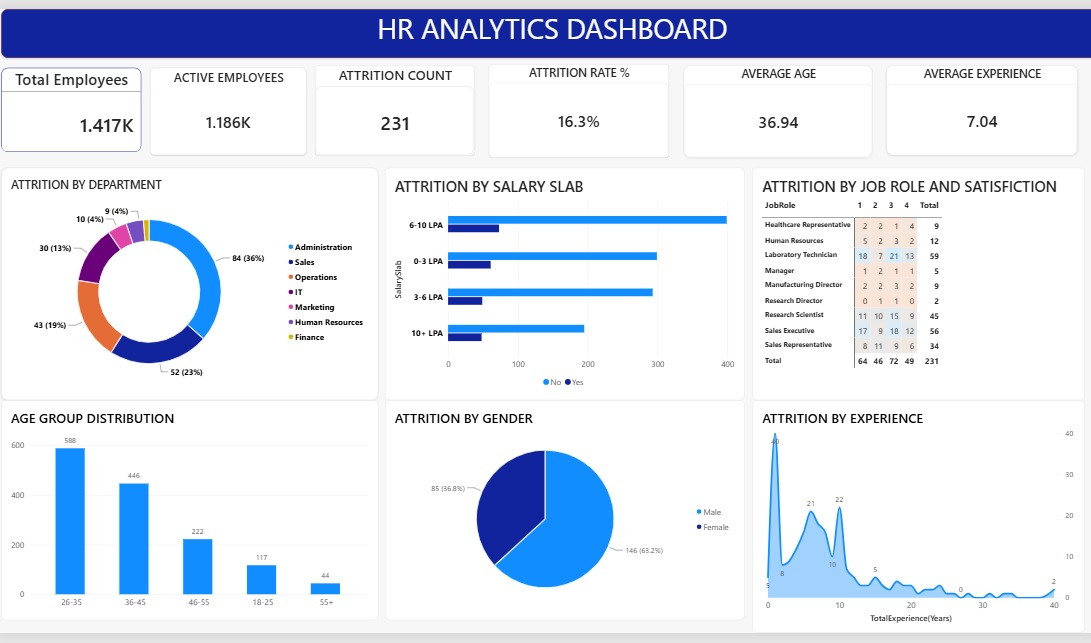

The page's visual inventory and layout, read from the dashboard file:
{"tool":"powerbi","page":{"name":"Page 1","canvas":[1920,1080],"ordinal":0},"visuals":[{"type":"textbox","box":[10.8,0,1908.8,84.4],"z":0},{"type":"cardVisual","title":"Total Employees","fields":{"Data":["CountNonNull(HR_Analytics-4.EmpID)"]},"box":[10.8,102.5,242.7,145.6],"z":1},{"type":"cardVisual","title":"ACTIVE EMPLOYEES","fields":{"Data":["CountNonNull(HR_Analytics-4.EmployeeCount)"]},"box":[267.9,102.5,271.5,151],"z":2},{"type":"cardVisual","title":"ATTRITION COUNT","fields":{"Data":["Sum(HR_Analytics-4.AttritionCount)"]},"box":[553.7,97.1,276.9,156.4],"z":3},{"type":"cardVisual","title":"ATTRITION RATE %","fields":{"Data":["HR_Analytics-4.Attrition Rate %"]},"box":[854.8,95.2,311.6,162.3],"z":4},{"type":"cardVisual","title":"AVERAGE AGE","fields":{"Data":["Avg(HR_Analytics-4.Age)"]},"box":[1192.4,97.4,326.8,160.1],"z":5},{"type":"cardVisual","title":"AVERAGE EXPERIENCE","fields":{"Data":["Avg(HR_Analytics-4.YearsatCompany)"]},"box":[1543,97.4,331.1,155.8],"z":6},{"type":"donutChart","title":"ATTRITION BY DEPARTMENT","fields":{"Category":["HR_Analytics-4.Department"],"Y":["Sum(HR_Analytics-4.AttritionCount)"]},"box":[10.8,275.1,652.6,402.7],"z":7},{"type":"clusteredBarChart","title":"ATTRITION BY SALARY SLAB","fields":{"Category":["HR_Analytics-4.SalarySlab"],"Series":["HR_Analytics-4.Attrition"],"Y":["CountNonNull(HR_Analytics-4.EmpID)"]},"box":[676,275.1,622,402.7],"z":8},{"type":"pivotTable","title":"ATTRITION BY JOB ROLE AND SATISFICTION","fields":{"Columns":["HR_Analytics-4.JobSatisfaction"],"Rows":["HR_Analytics-4.JobRole"],"Values":["Sum(HR_Analytics-4.AttritionCount)"]},"box":[1310.6,275.1,575.3,402.7],"z":9},{"type":"columnChart","title":"AGE GROUP DISTRIBUTION","fields":{"Category":["HR_Analytics-4.AgeGroup"],"Y":["Sum(HR_Analytics-4.EmployeeCount)"]},"box":[10.8,677.8,652.6,381.1],"z":10},{"type":"pieChart","title":"ATTRITION BY GENDER","fields":{"Category":["HR_Analytics-4.Gender"],"Y":["Sum(HR_Analytics-4.AttritionCount)"]},"box":[676,677.8,622,381.1],"z":11},{"type":"areaChart","title":"ATTRITION BY EXPERIENCE","fields":{"Category":["HR_Analytics-4.TotalExperience(Years)"],"Y2":["Sum(HR_Analytics-4.AttritionCount)"]},"box":[1310.6,677.8,575.3,402.7],"z":12}]}

Visuals, with their boxes on the page's 1920x1080 design canvas (x1, y1, x2, y2). These are canvas units, not pixel positions in the 1091x643 screenshot, which may show the page scaled, cropped or inside an application window:
textbox: select_region(11, 0, 1920, 84)
"Total Employees" cardVisual: select_region(11, 102, 254, 248)
"ACTIVE EMPLOYEES" cardVisual: select_region(268, 102, 539, 254)
"ATTRITION COUNT" cardVisual: select_region(554, 97, 831, 254)
"ATTRITION RATE %" cardVisual: select_region(855, 95, 1166, 258)
"AVERAGE AGE" cardVisual: select_region(1192, 97, 1519, 258)
"AVERAGE EXPERIENCE" cardVisual: select_region(1543, 97, 1874, 253)
"ATTRITION BY DEPARTMENT" donutChart: select_region(11, 275, 663, 678)
"ATTRITION BY SALARY SLAB" clusteredBarChart: select_region(676, 275, 1298, 678)
"ATTRITION BY JOB ROLE AND SATISFICTION" pivotTable: select_region(1311, 275, 1886, 678)
"AGE GROUP DISTRIBUTION" columnChart: select_region(11, 678, 663, 1059)
"ATTRITION BY GENDER" pieChart: select_region(676, 678, 1298, 1059)
"ATTRITION BY EXPERIENCE" areaChart: select_region(1311, 678, 1886, 1080)
